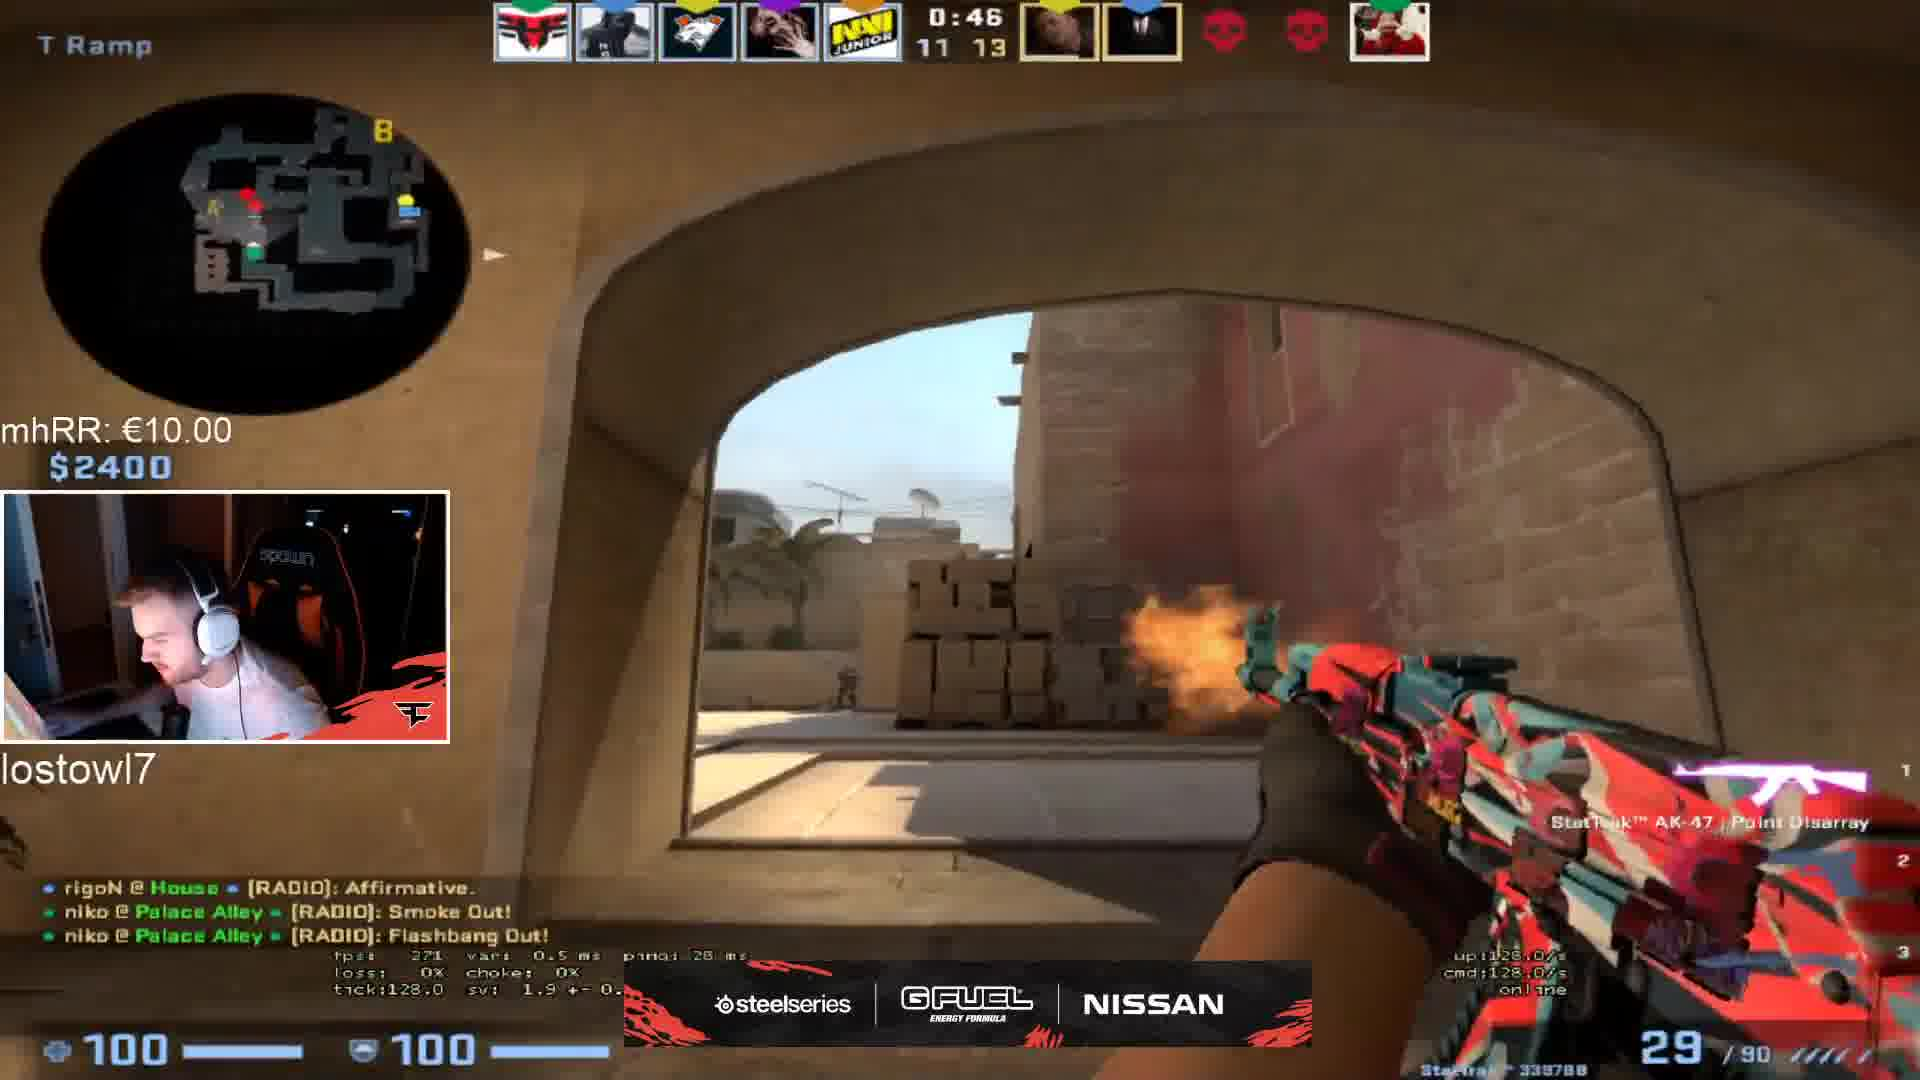enemy: (831, 665, 861, 712)
